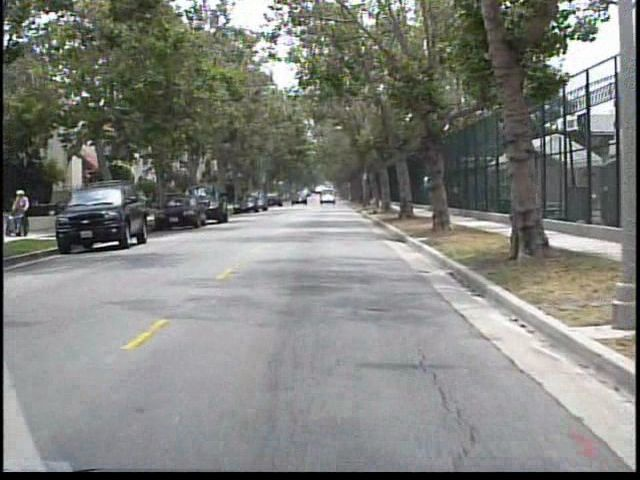person: (14, 186, 34, 238)
